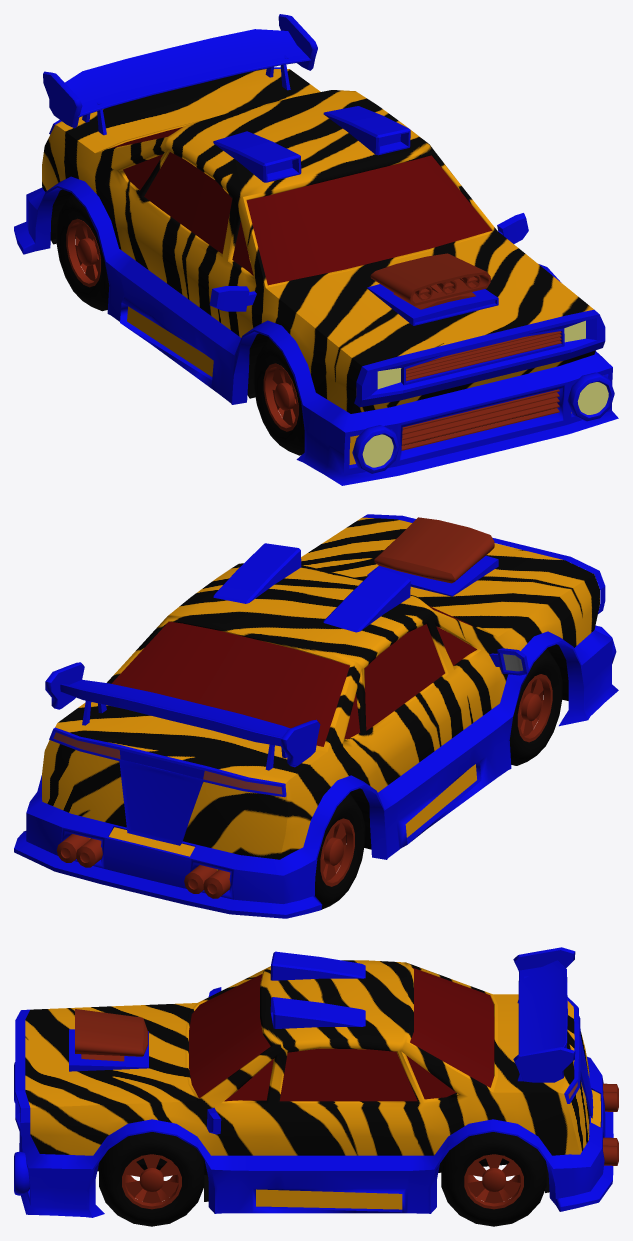
The model's file is Muscle Evolution4 Blue ZebraBlackOrange DarkRed Bronze.glb.
3 views of the same model, one above another, from view 1: azimuth 30°, elevation 25°; view 2: azimuth 150°, elevation 25°; view 3: azimuth 270°, elevation 25° (orthographic). The views are drawn at different scales.
Parts seen in each view (by area): view 1: evo4_sillPartR_f1_dupl, evo4_evo4_polySurface1_f1_dupl, evo4_frontGlass_f1_dupl, evo4_Spoiler4_f1_dupl, evo4_frontBlockGrid_f1_dupl, evo4_glasseBigR_f1_dupl, evo4_engine_f1_dupl, evo4_front_down_grid_f1_dupl, evo4_airtrap_r_f1_dupl, evo4_airtrap_l_f1_dupl, evo4_front_up_grid_f1_dupl, evo4_tire_rf_f1_dupl (+11 smaller); view 2: evo4_sillPartR_f1_dupl, evo4_evo4_polySurface1_f1_dupl, evo4_BackGlassGlass_f1_dupl, evo4_Spoiler4_f1_dupl, evo4_blockBackLights_f1_dupl, evo4_engine_f1_dupl, evo4_glasseBigR_f1_dupl, evo4_airtrap_r_f1_dupl, evo4_airtrap_l_f1_dupl, evo4_tire_rf2_f1_dupl, evo4_tire_rf_f1_dupl, evo4_rim_A_rf_f1_dupl (+9 smaller); view 3: evo4_sillPartR_f1_dupl, evo4_evo4_polySurface1_f1_dupl, evo4_BackGlassGlass_f1_dupl, evo4_Spoiler4_f1_dupl, evo4_glasseBigL_f1_dupl, evo4_frontGlass_f1_dupl, evo4_tire_lf_f1_dupl, evo4_tire_lb_f1_dupl, evo4_engine_f1_dupl, evo4_rim_A_lf_f1_dupl, evo4_rim_A_lb_f1_dupl, evo4_airtrap_l_f1_dupl (+9 smaller).
Part boxes in pixels (bbox=[...]): evo4_sillPartR_f1_dupl: bbox=[42, 69, 595, 464]; evo4_evo4_polySurface1_f1_dupl: bbox=[14, 176, 618, 485]; evo4_frontGlass_f1_dupl: bbox=[246, 155, 491, 285]; evo4_Spoiler4_f1_dupl: bbox=[43, 14, 317, 135]; evo4_frontBlockGrid_f1_dupl: bbox=[354, 309, 605, 407]; evo4_glasseBigR_f1_dupl: bbox=[144, 152, 232, 253]; evo4_engine_f1_dupl: bbox=[370, 253, 490, 309]; evo4_front_down_grid_f1_dupl: bbox=[401, 389, 559, 450]; evo4_airtrap_r_f1_dupl: bbox=[213, 131, 301, 182]; evo4_airtrap_l_f1_dupl: bbox=[323, 106, 410, 155]; evo4_front_up_grid_f1_dupl: bbox=[406, 331, 561, 381]; evo4_tire_rf_f1_dupl: bbox=[56, 194, 109, 311]; evo4_sillPartR_f1_dupl: bbox=[42, 517, 599, 870]; evo4_evo4_polySurface1_f1_dupl: bbox=[14, 630, 618, 918]; evo4_BackGlassGlass_f1_dupl: bbox=[111, 621, 349, 746]; evo4_Spoiler4_f1_dupl: bbox=[45, 662, 320, 770]; evo4_blockBackLights_f1_dupl: bbox=[49, 727, 286, 845]; evo4_engine_f1_dupl: bbox=[374, 517, 494, 583]; evo4_glasseBigR_f1_dupl: bbox=[364, 624, 444, 730]; evo4_airtrap_r_f1_dupl: bbox=[323, 567, 410, 632]; evo4_airtrap_l_f1_dupl: bbox=[213, 543, 301, 603]; evo4_tire_rf2_f1_dupl: bbox=[509, 648, 562, 765]; evo4_tire_rf_f1_dupl: bbox=[315, 793, 365, 909]; evo4_rim_A_rf_f1_dupl: bbox=[517, 674, 552, 742]; evo4_sillPartR_f1_dupl: bbox=[25, 960, 600, 1209]; evo4_evo4_polySurface1_f1_dupl: bbox=[19, 1056, 613, 1217]; evo4_BackGlassGlass_f1_dupl: bbox=[410, 967, 494, 1087]; evo4_Spoiler4_f1_dupl: bbox=[513, 947, 575, 1082]; evo4_glasseBigL_f1_dupl: bbox=[279, 1048, 417, 1101]; evo4_frontGlass_f1_dupl: bbox=[189, 974, 270, 1098]; evo4_tire_lf_f1_dupl: bbox=[99, 1132, 204, 1226]; evo4_tire_lb_f1_dupl: bbox=[441, 1132, 546, 1226]; evo4_engine_f1_dupl: bbox=[75, 1009, 148, 1061]; evo4_rim_A_lf_f1_dupl: bbox=[122, 1154, 181, 1209]; evo4_rim_A_lb_f1_dupl: bbox=[464, 1154, 523, 1209]; evo4_airtrap_l_f1_dupl: bbox=[270, 997, 365, 1028].
Size of the model in its own units: 177 by 120 by 337.
Materials: 8 (1 with a texture image).
